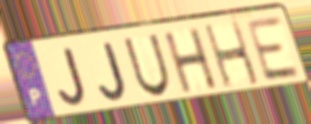E: (243, 14, 303, 84)
H: (201, 18, 262, 91), (161, 25, 220, 96)
J: (56, 46, 88, 110), (98, 40, 130, 103)
U: (121, 32, 173, 99)
